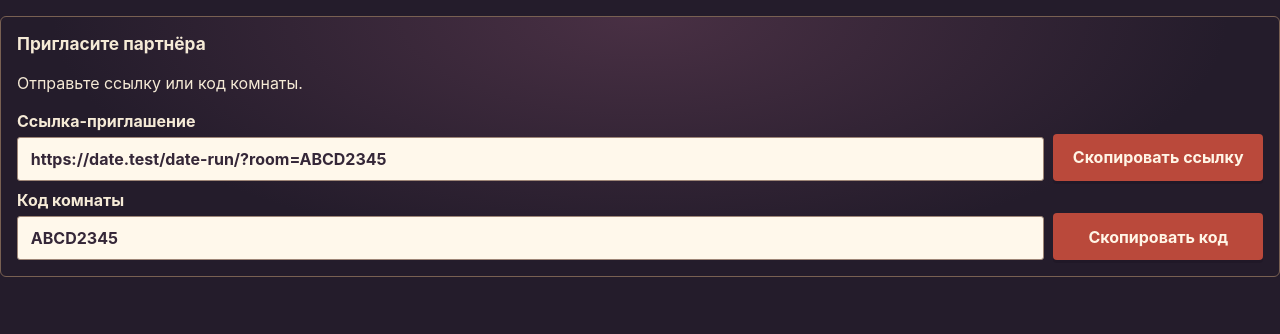
Scenario: InvitePanel › shows the same selectable fallback when the Clipboard API is absent
Click the button "Скопировать ссылку": [1158, 157] box [1053,134,1263,181]
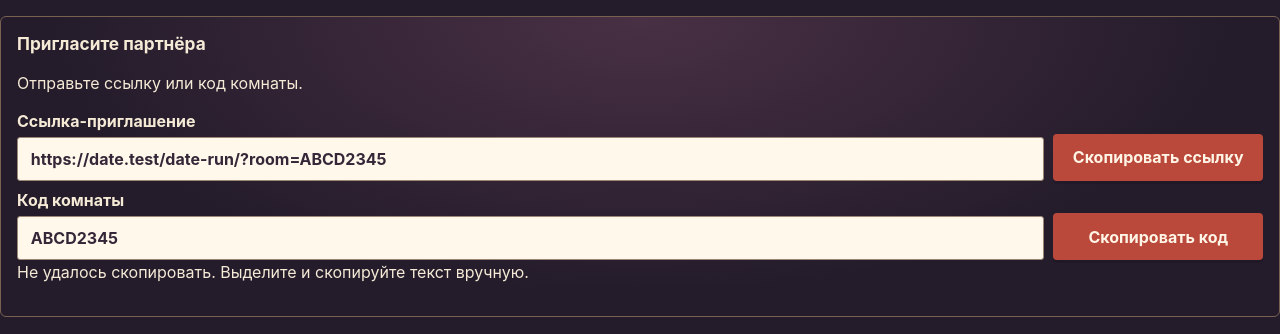
Expected: the field labelled "Ссылка-приглашение" holds "https://date.test/date-run/?room=ABCD2345", [17,137,1044,181]
Now the message shows "Выделите и скопируйте", box [17,262,529,282]
